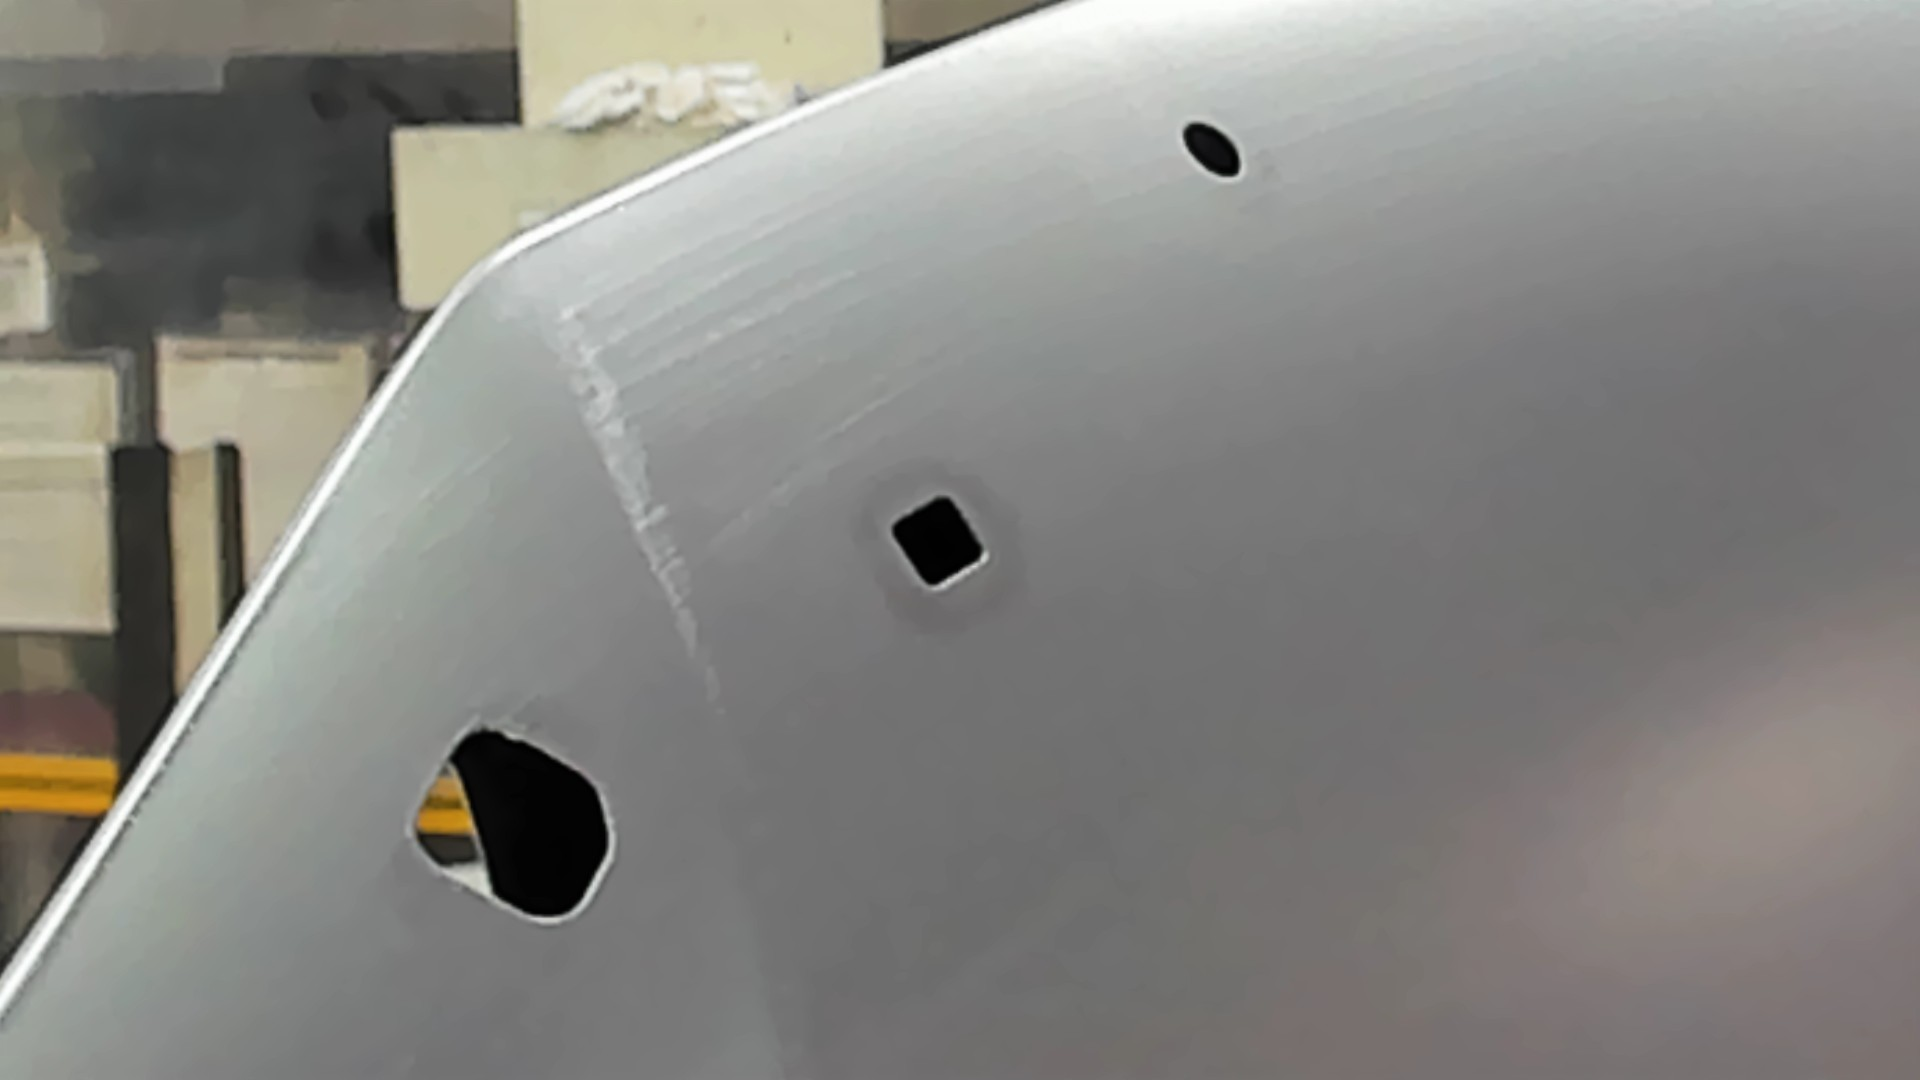chico: (1178, 113, 1247, 183)
grande: (400, 717, 621, 932)
mediano: (882, 488, 992, 595)
